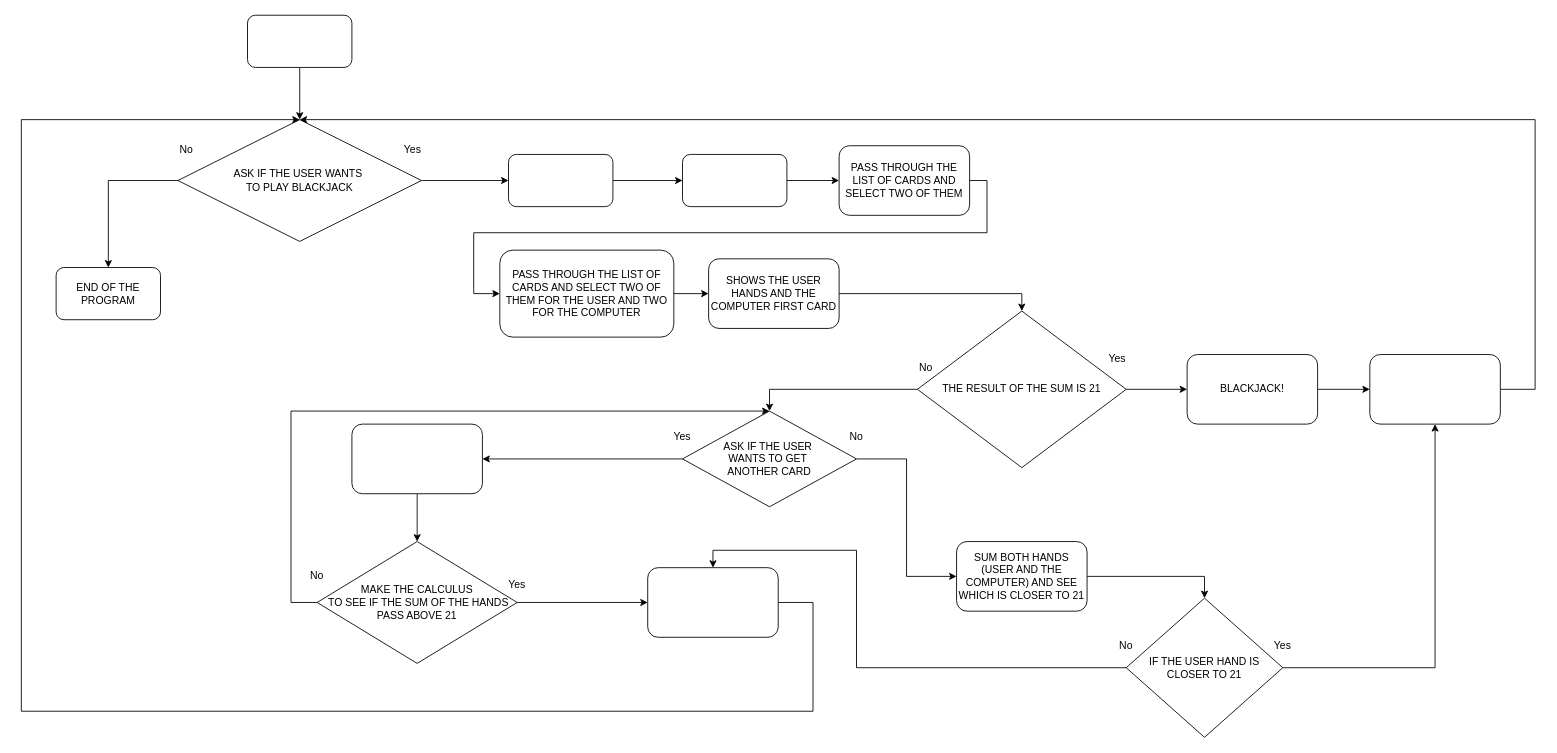
The diagram is 1557 pixels wide and 753 high, and some of its shapes have lost their labels. The shapes that lost their labels are listed below. From the top down, each one's centre as x and y in pixels, then its label:
At (x=299, y=40): "START".
At (x=560, y=180): "CLEAR TERMINAL".
At (x=734, y=180): "SHOWS THE ART LOGO".
At (x=1434, y=389): "YOU WIN!!".
At (x=416, y=458): "SELECT ONE MORE CARD AND ADD TO THE USER HAND".
At (x=712, y=602): "YOU LOSE!".
